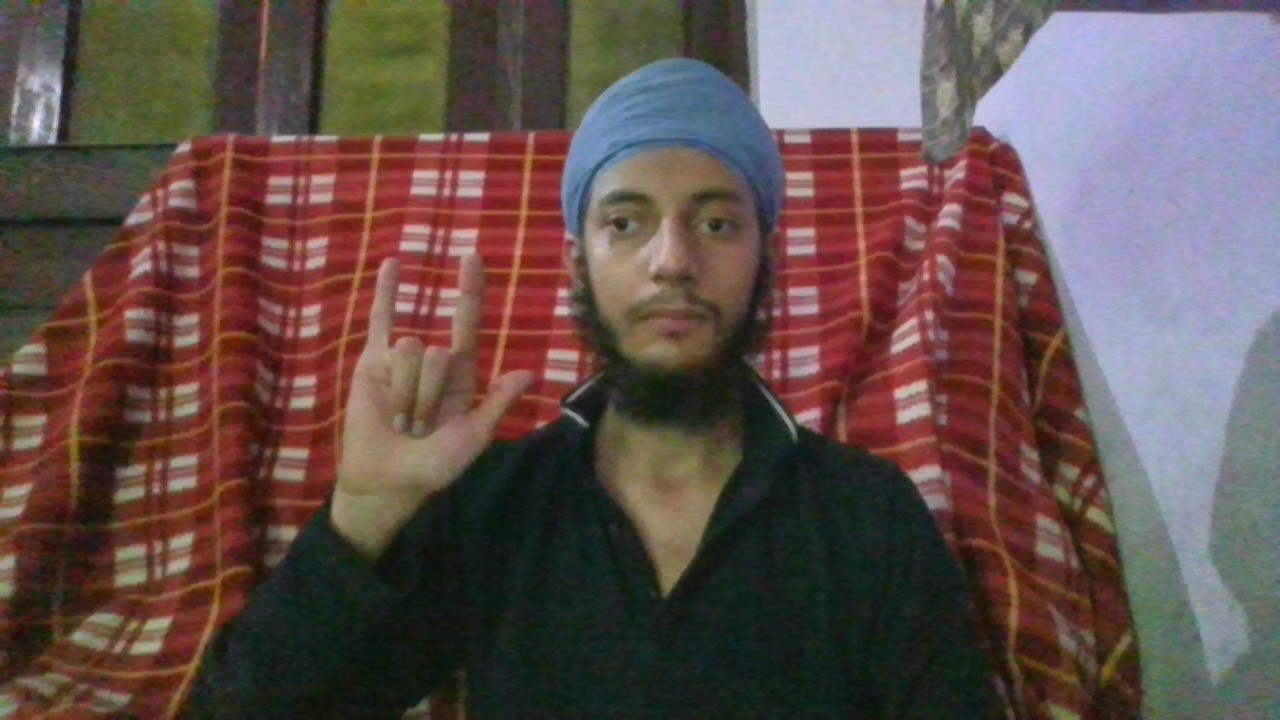I Love You: (339, 249, 535, 505)
